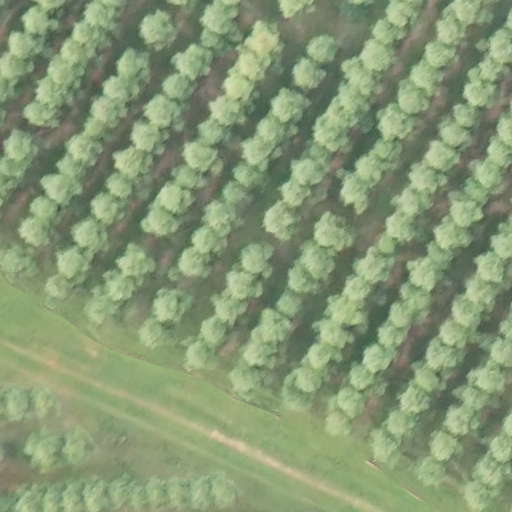eucalipto: (24, 430, 64, 472), (312, 210, 354, 250), (243, 331, 287, 369), (299, 238, 338, 280), (353, 246, 393, 285), (140, 9, 177, 51), (405, 160, 450, 194), (171, 42, 213, 78), (311, 114, 350, 152), (375, 105, 414, 142), (341, 60, 381, 96), (154, 287, 191, 325), (109, 473, 145, 512), (286, 370, 322, 409), (324, 294, 364, 329), (114, 47, 153, 82), (263, 202, 299, 239), (257, 307, 292, 345), (422, 137, 460, 172), (406, 255, 444, 290), (434, 216, 473, 250), (41, 172, 81, 205), (396, 74, 428, 115), (65, 133, 103, 167), (200, 2, 239, 35), (113, 146, 152, 179), (143, 94, 179, 129), (1, 250, 38, 284), (115, 248, 152, 282), (71, 218, 110, 250), (464, 273, 499, 308), (367, 428, 402, 463), (178, 246, 214, 280), (286, 262, 323, 295), (3, 131, 41, 163), (143, 206, 181, 238), (65, 431, 99, 466), (183, 141, 218, 175), (459, 482, 500, 511), (29, 385, 62, 421), (359, 39, 395, 72), (228, 365, 265, 397), (341, 172, 370, 212), (211, 475, 245, 509), (131, 120, 165, 154), (241, 136, 276, 169), (226, 269, 261, 302), (92, 96, 128, 128), (158, 183, 194, 215), (1, 383, 29, 424), (205, 200, 239, 233), (369, 139, 402, 173), (426, 335, 459, 369), (90, 193, 125, 225), (411, 361, 446, 393), (17, 218, 53, 249), (317, 319, 353, 350), (291, 58, 324, 91), (386, 211, 419, 244), (301, 341, 335, 373), (409, 61, 443, 93), (450, 197, 484, 229), (473, 252, 507, 284), (450, 293, 482, 327), (427, 429, 459, 463), (326, 98, 361, 129), (437, 120, 472, 151), (35, 77, 71, 107), (469, 159, 505, 189), (241, 243, 274, 275), (398, 185, 431, 217), (247, 25, 281, 56), (211, 292, 245, 323), (335, 85, 370, 115), (23, 100, 60, 128), (272, 88, 303, 121), (19, 5, 53, 35), (188, 477, 217, 512), (86, 296, 121, 325), (72, 20, 104, 51), (56, 251, 87, 283), (435, 15, 466, 47), (472, 363, 503, 395), (47, 52, 77, 85), (399, 386, 432, 416), (83, 3, 117, 32), (220, 179, 254, 208), (400, 282, 434, 311), (237, 49, 267, 81), (336, 390, 368, 420), (455, 383, 488, 412), (8, 31, 42, 59), (461, 82, 495, 110), (172, 164, 207, 191), (232, 165, 267, 192), (160, 75, 196, 101), (212, 95, 243, 125), (181, 339, 210, 371), (483, 135, 512, 167), (443, 405, 472, 437), (165, 475, 190, 512), (192, 228, 225, 256), (293, 158, 326, 186), (83, 478, 110, 512), (470, 460, 504, 487), (444, 1, 479, 27), (353, 156, 383, 186), (440, 318, 470, 348), (105, 272, 136, 301), (305, 34, 337, 62), (103, 77, 140, 101), (423, 42, 457, 68), (387, 302, 422, 327), (15, 483, 45, 512), (324, 411, 354, 440), (416, 459, 446, 488), (60, 37, 91, 65), (197, 119, 228, 147), (200, 317, 229, 346), (138, 319, 167, 348), (31, 196, 61, 224), (103, 171, 133, 199), (275, 291, 304, 319), (489, 28, 512, 63), (341, 276, 373, 301), (449, 101, 477, 129), (258, 115, 285, 144), (371, 19, 400, 46), (385, 408, 414, 435), (1, 54, 31, 80), (223, 74, 253, 100), (146, 476, 167, 512), (43, 275, 72, 301), (385, 1, 414, 27), (281, 182, 311, 207), (56, 157, 88, 180), (360, 346, 387, 373), (464, 178, 491, 205), (63, 482, 87, 512), (425, 241, 456, 264), (1, 152, 27, 179), (274, 1, 315, 18), (488, 340, 512, 368), (491, 230, 512, 261), (347, 366, 374, 390), (375, 324, 402, 348), (486, 437, 512, 461), (494, 113, 512, 146), (42, 484, 63, 512), (83, 115, 105, 139), (375, 232, 397, 255)
